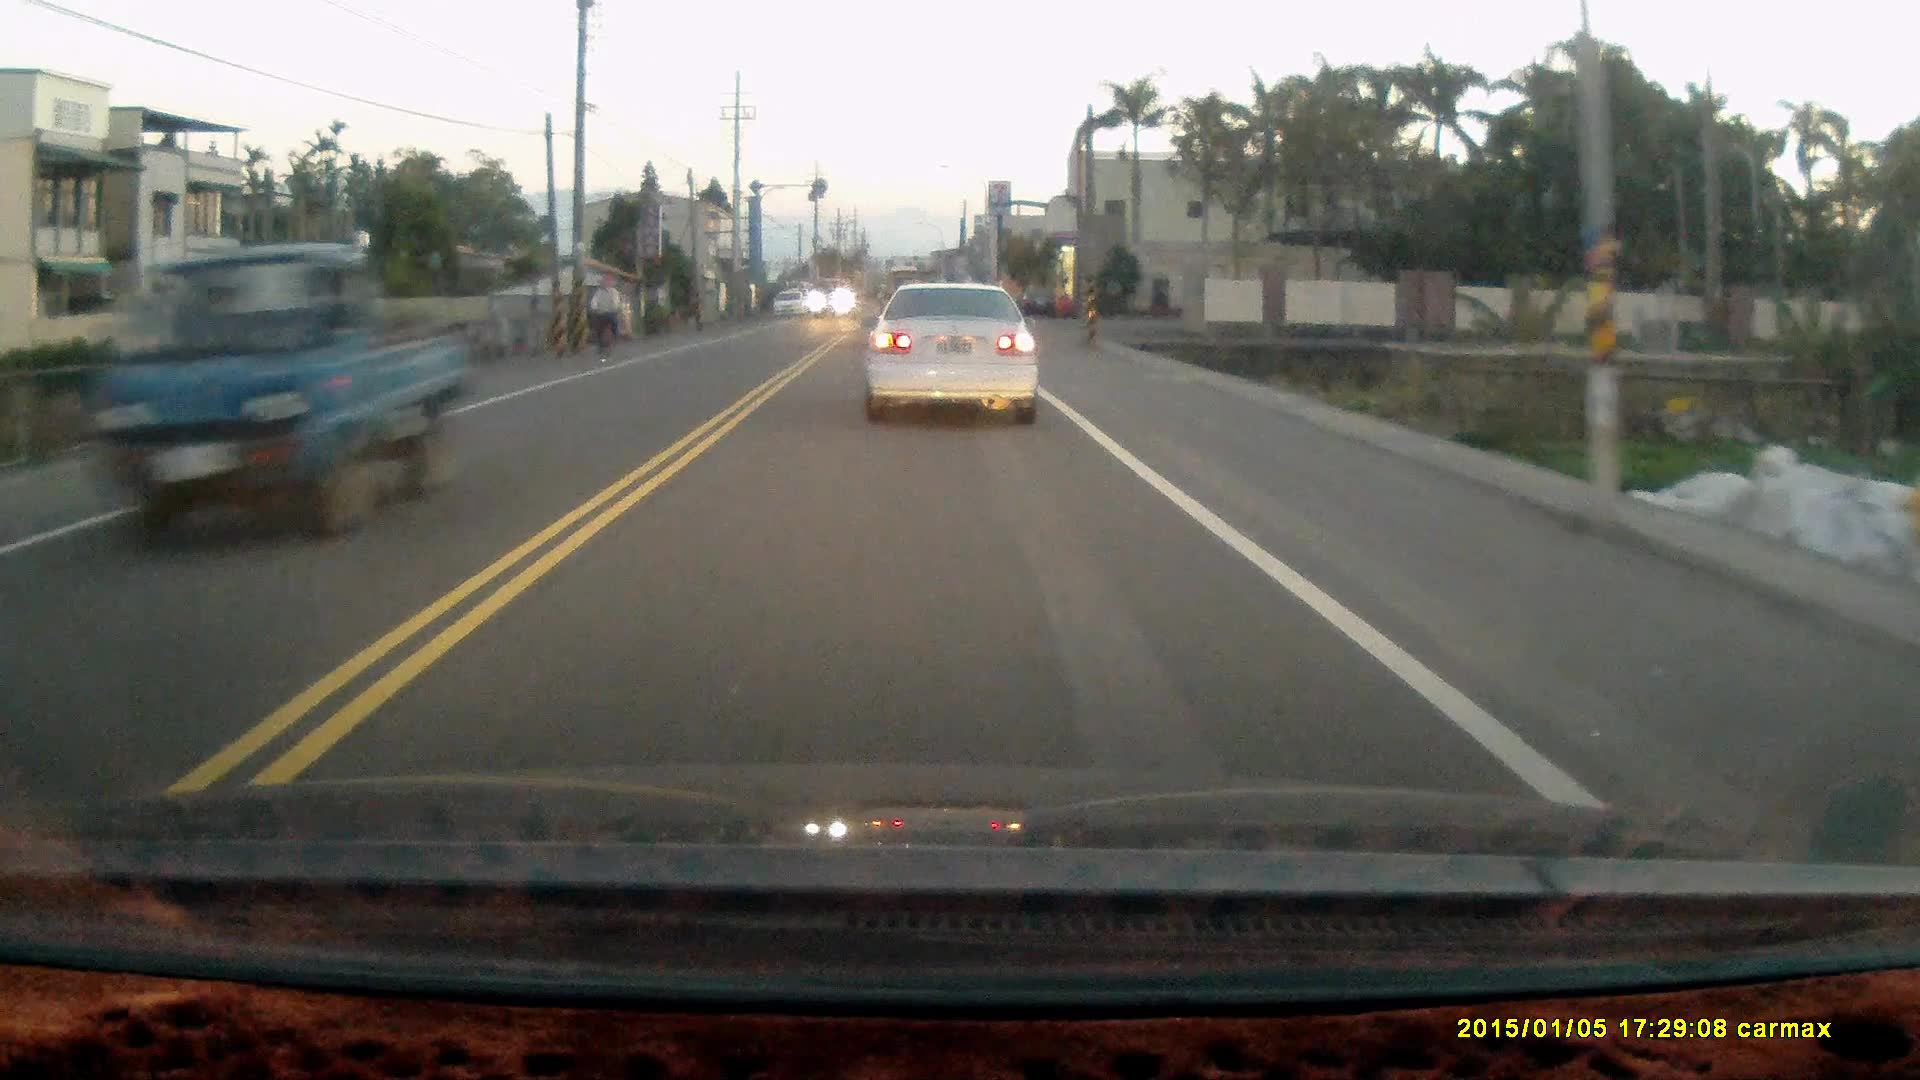rider: (587, 271, 622, 363)
vehicle: (81, 247, 465, 541), (863, 282, 1040, 424), (805, 277, 852, 321), (1020, 280, 1060, 314), (773, 292, 808, 320)
